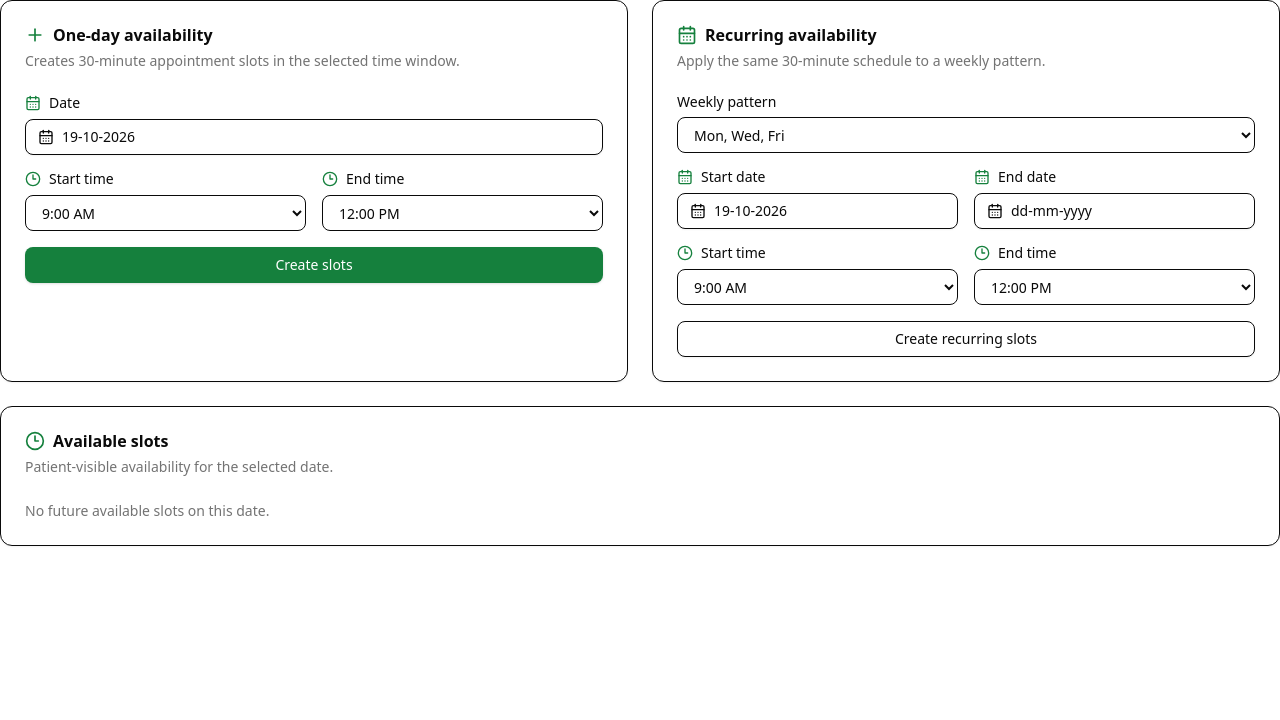
it: Admin slot scheduling › shows newly created slots for the selected date
This screenshot has width=1280, height=720.
Check: the text "No future available slots on this date." is shown, box x1=25 y1=501 x2=269 y2=520
Click the button "Create slots".
click(314, 265)  # box x1=25 y1=247 x2=603 y2=283
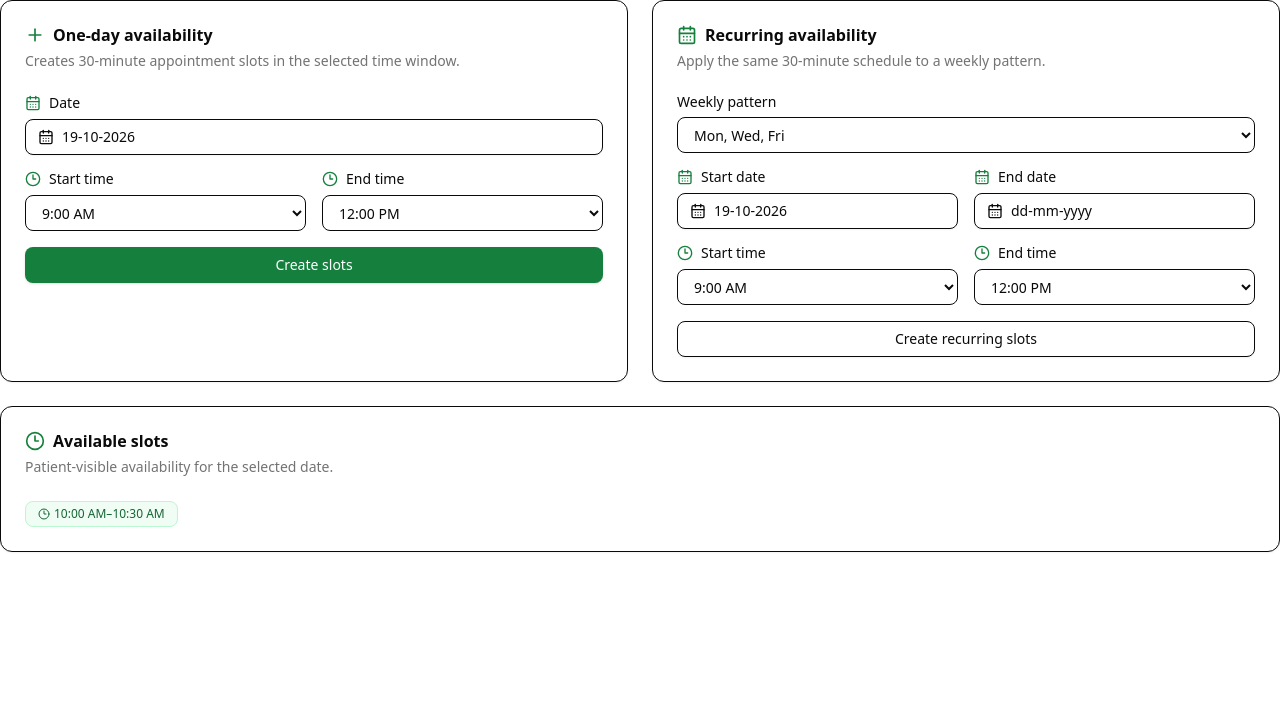
Check: the text "10:00 AM–10:30 AM" is shown, box x1=25 y1=501 x2=178 y2=527
